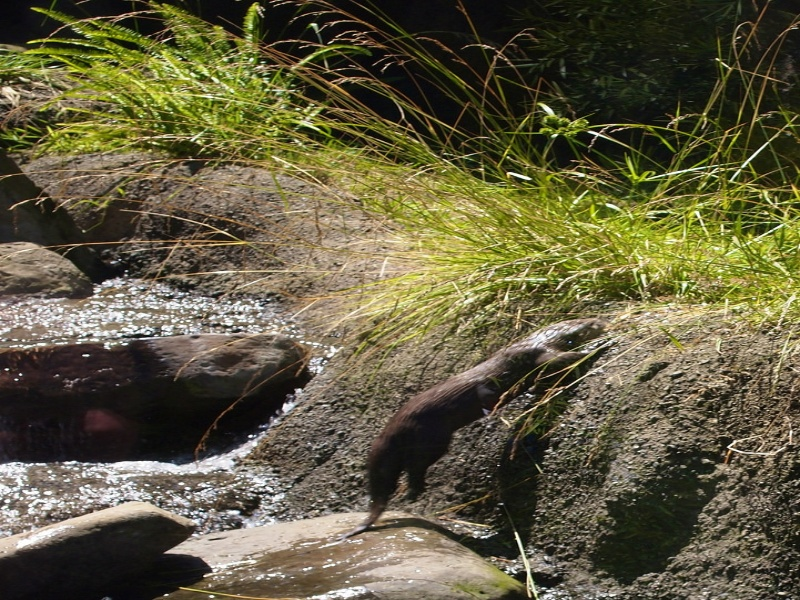minkish: (357, 314, 611, 530)
